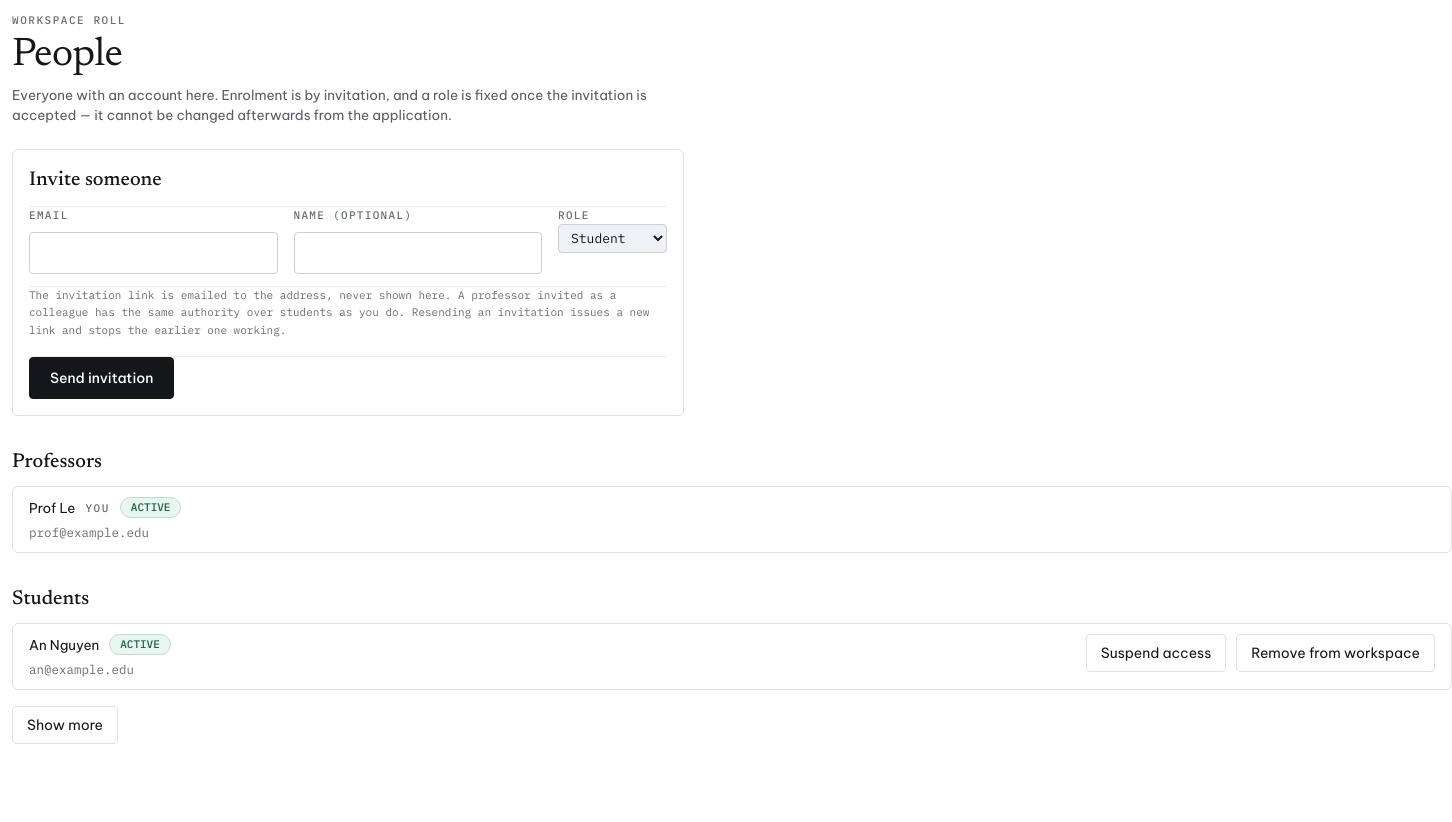
Test: follows the cursor when the roll is longer than a page
Expected: the link "An Nguyen" is shown, [29, 635, 99, 655]
Click the button "Show more": (65, 725) [12, 706, 118, 744]
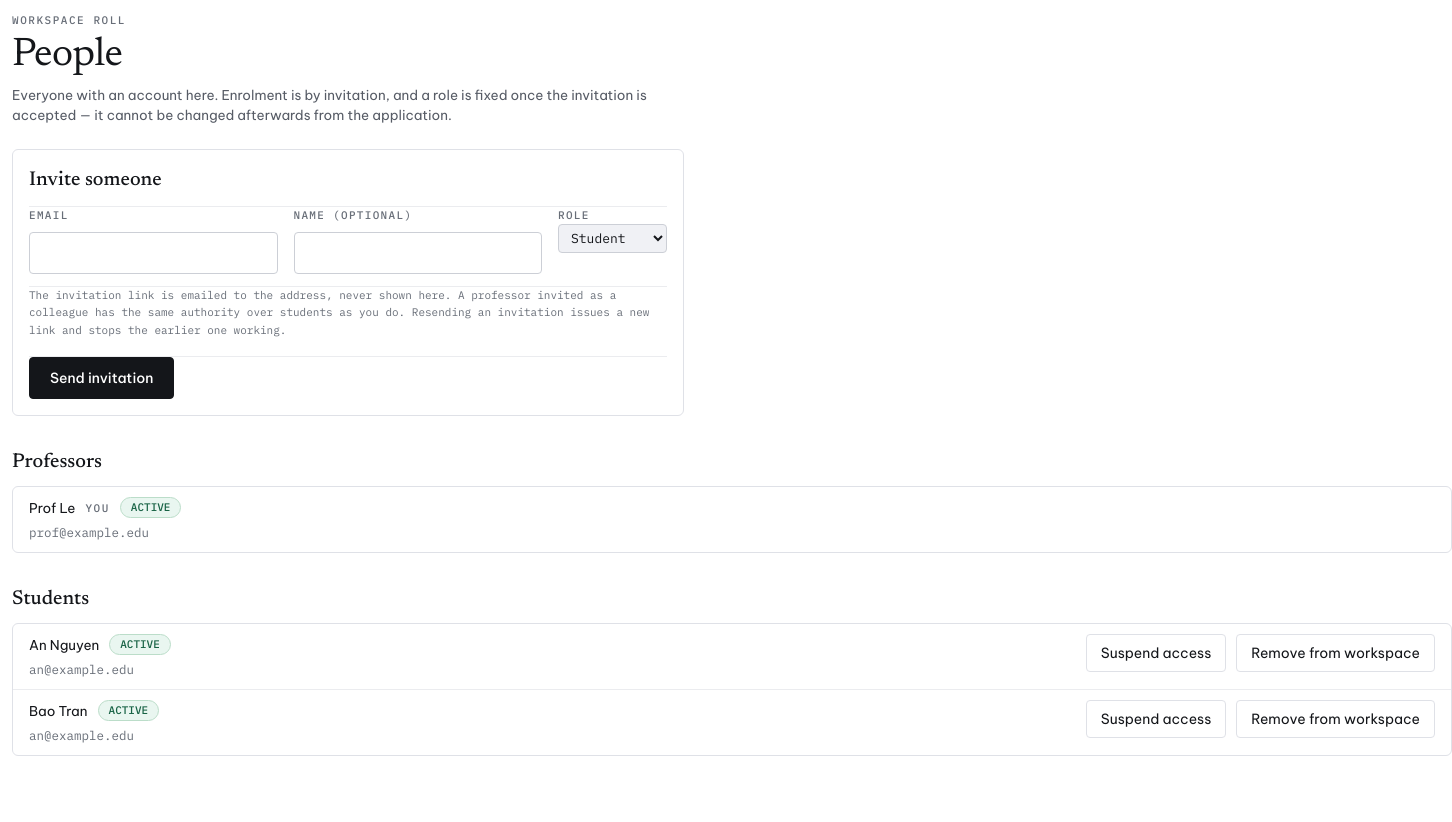
Expected: the link "Bao Tran" is shown, [29, 701, 88, 721]
